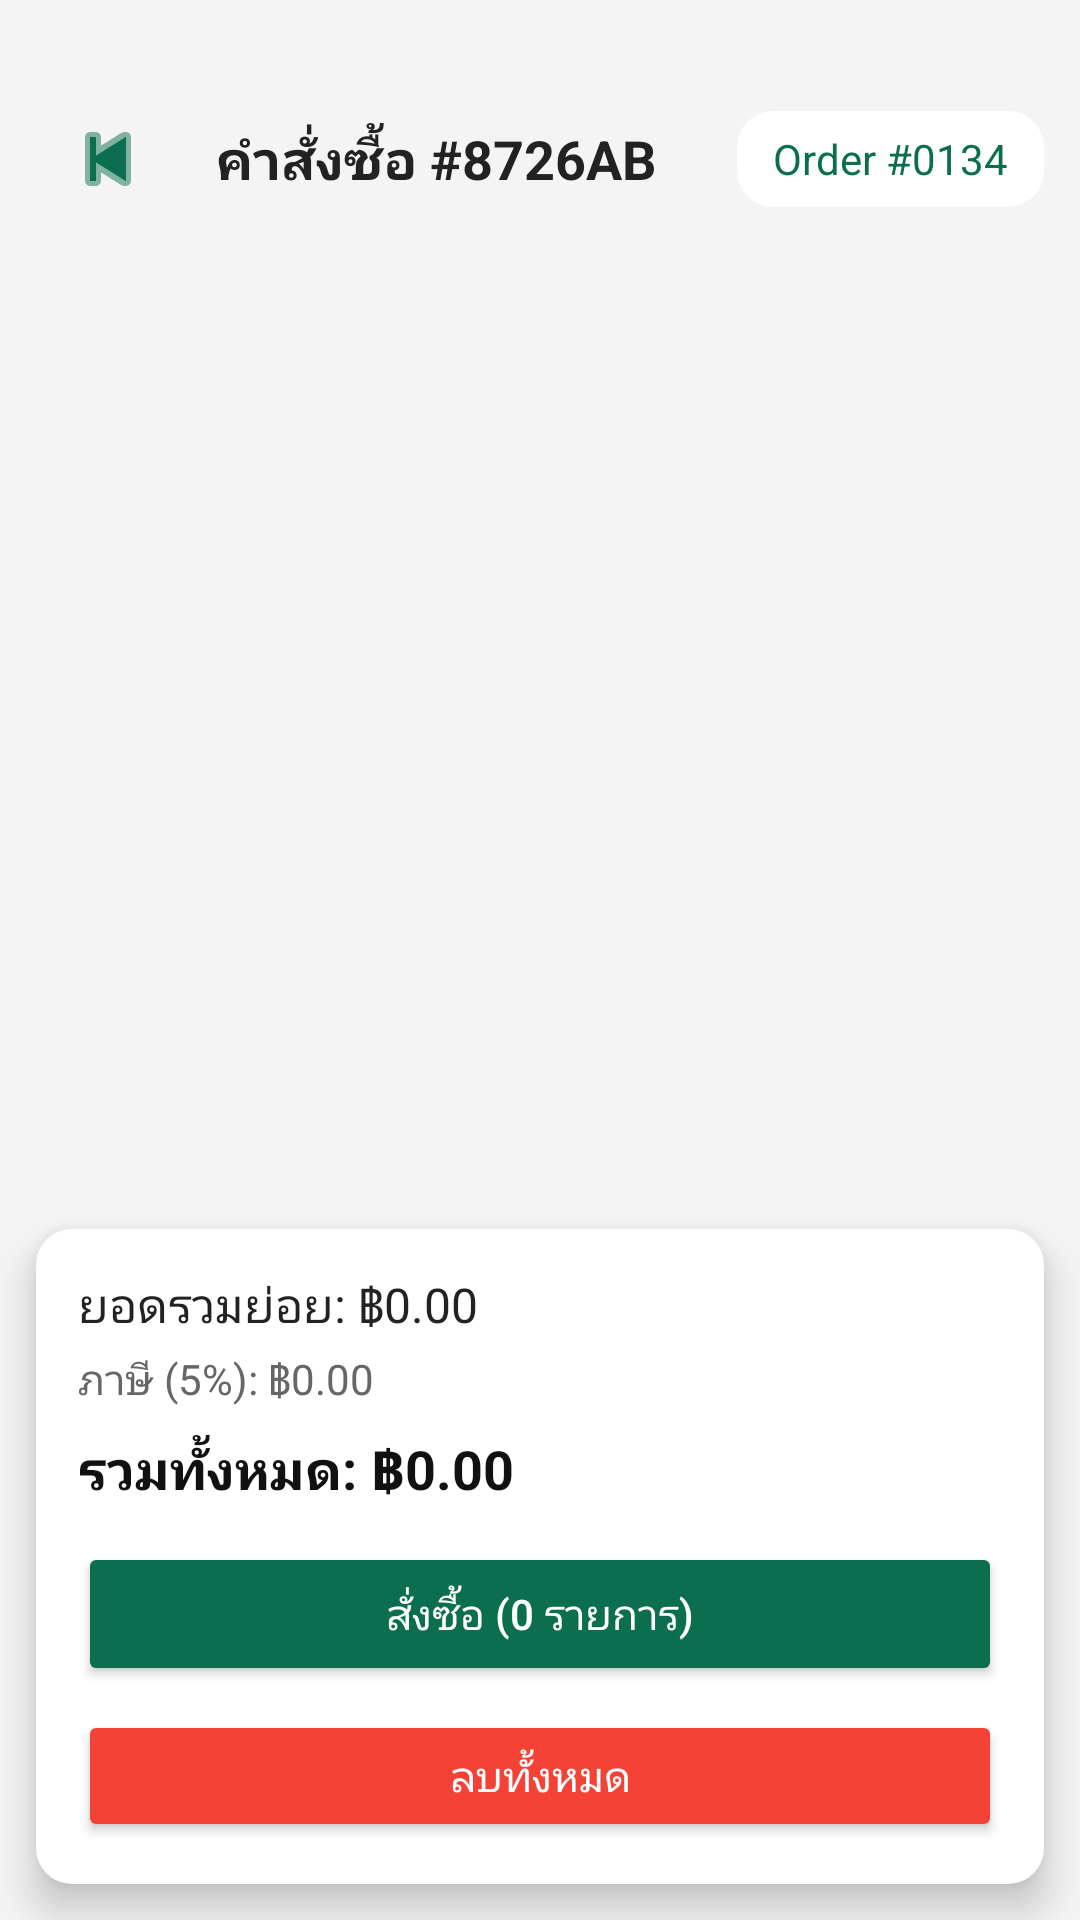

Icon click points for this 1080×1920 phone screenshot, format (x,y):
back: (108,159)
